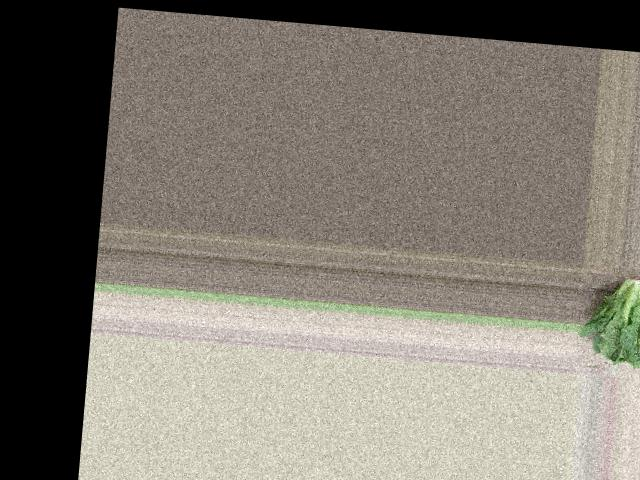lettuce: (577, 267, 640, 374)
